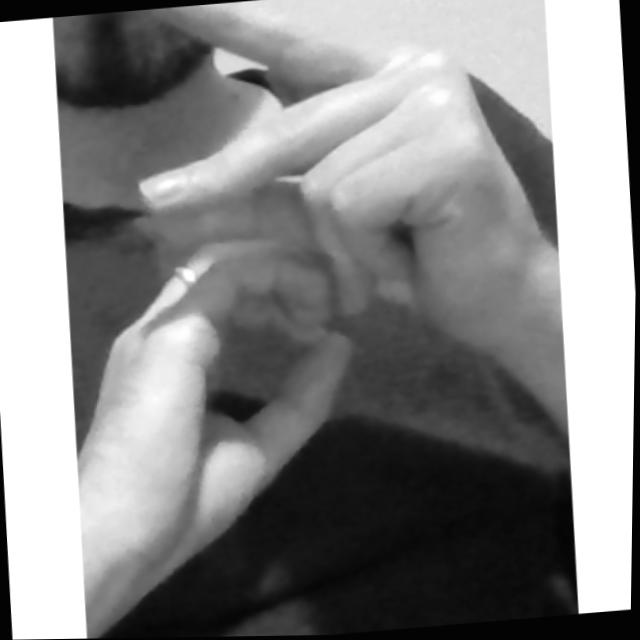O--: (44, 0, 565, 550)
